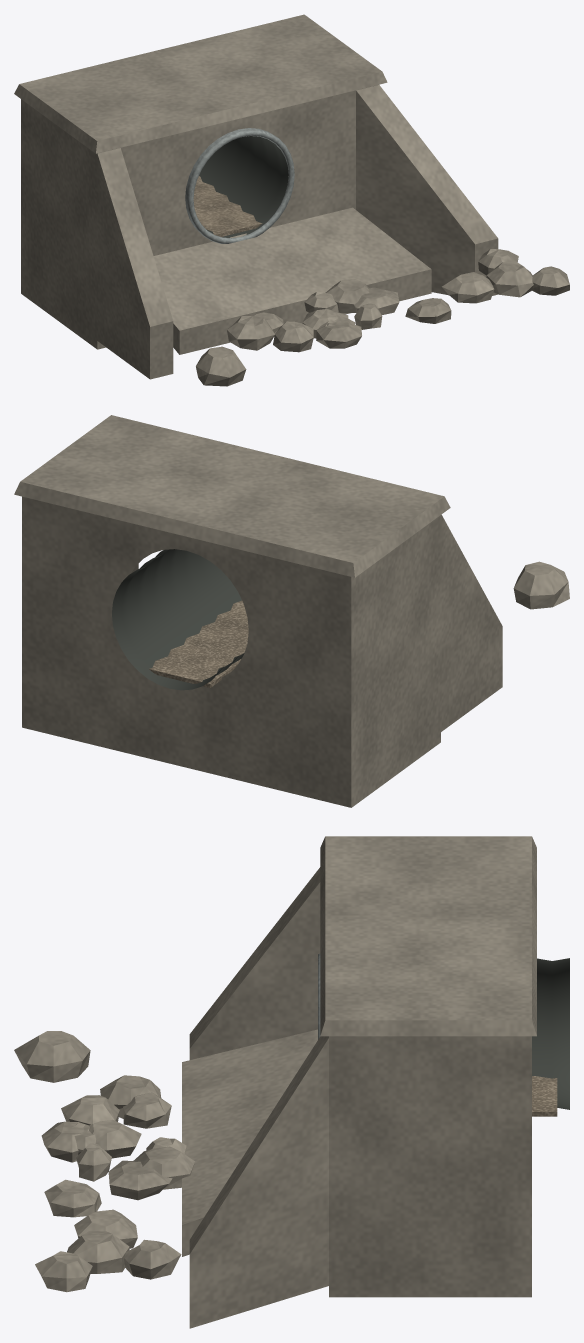
Rendered from SM_SubstationField_Culvert.glb.
3 renders of one model, top to bottom at view 1: azimuth 30°, elevation 25°; view 2: azimuth 150°, elevation 25°; view 3: azimuth 270°, elevation 25°, orthographic. The views are drawn at different scales.
Visible parts, largest first — view 1: SM_SubstationField_Culvert; view 2: SM_SubstationField_Culvert; view 3: SM_SubstationField_Culvert.
Part boxes in pixels (x1,y1,x2,y2): SM_SubstationField_Culvert: (14, 14, 569, 386); SM_SubstationField_Culvert: (14, 415, 569, 807); SM_SubstationField_Culvert: (14, 836, 569, 1328).
Bounding box in the file's own units: 2.28 × 1.21 × 2.19.
Materials: 4 (3 with a texture image).
